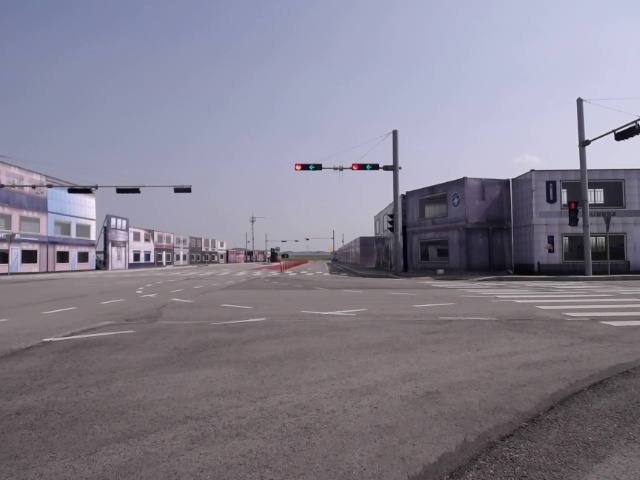left_green_4: (295, 164, 321, 170), (352, 164, 378, 170)
